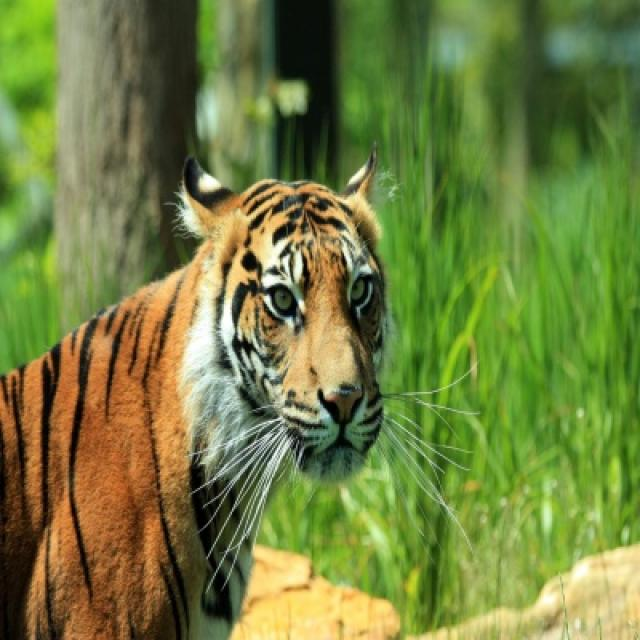Tiger: (0, 150, 384, 638)
